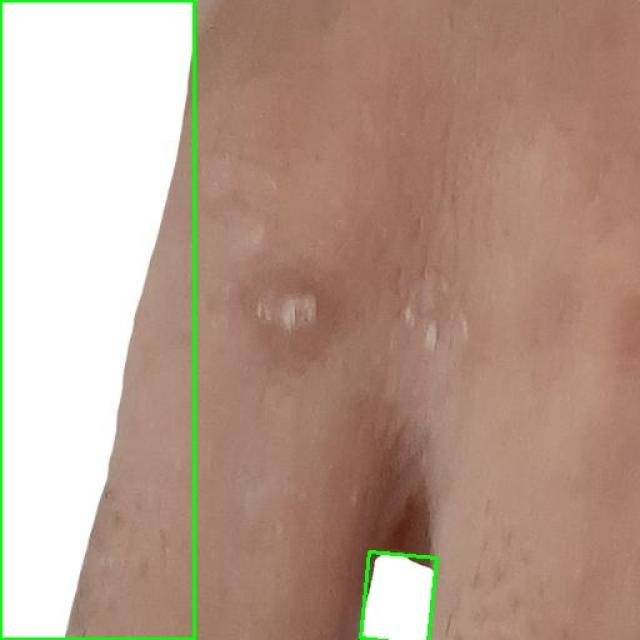Scabies: (0, 0, 194, 639), (360, 552, 437, 640)
